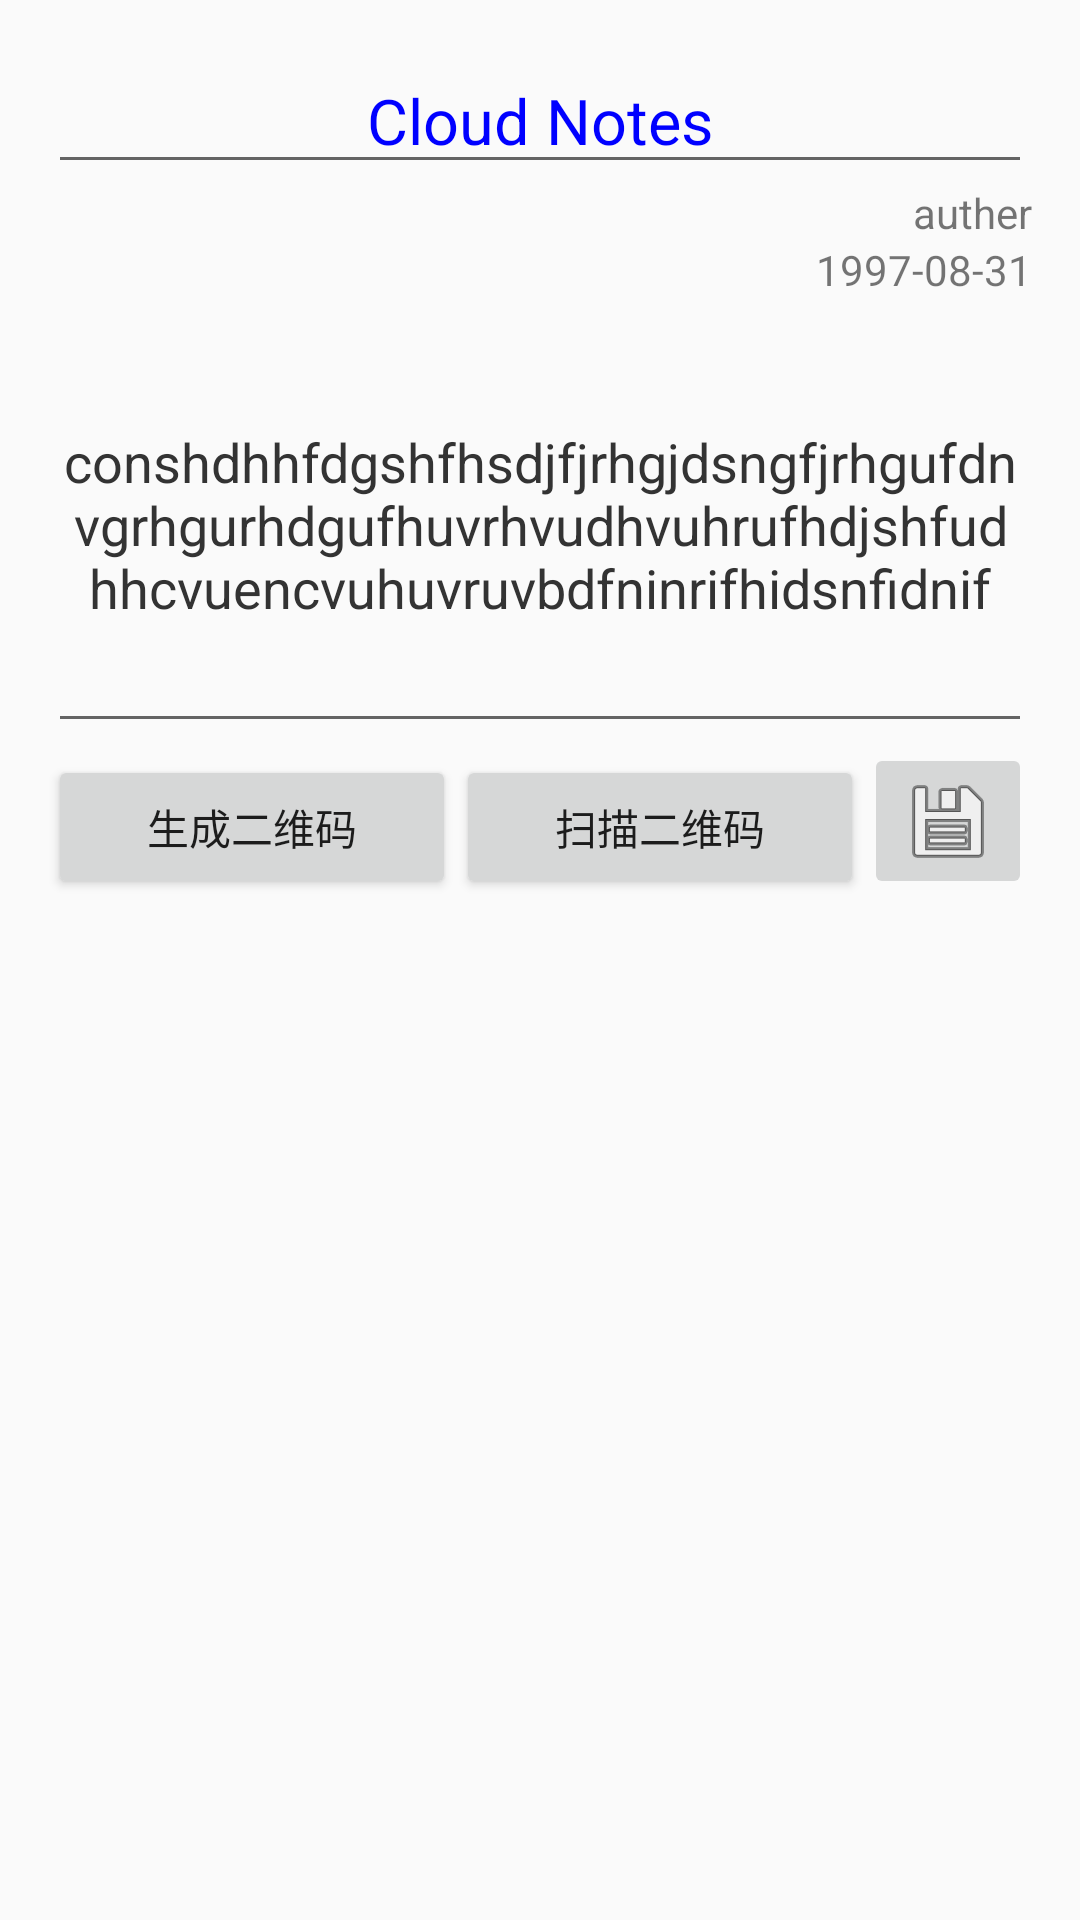

Point at icon controls on the screen. Image size 1080x1920, points as (x,y).
save: (948,821)
